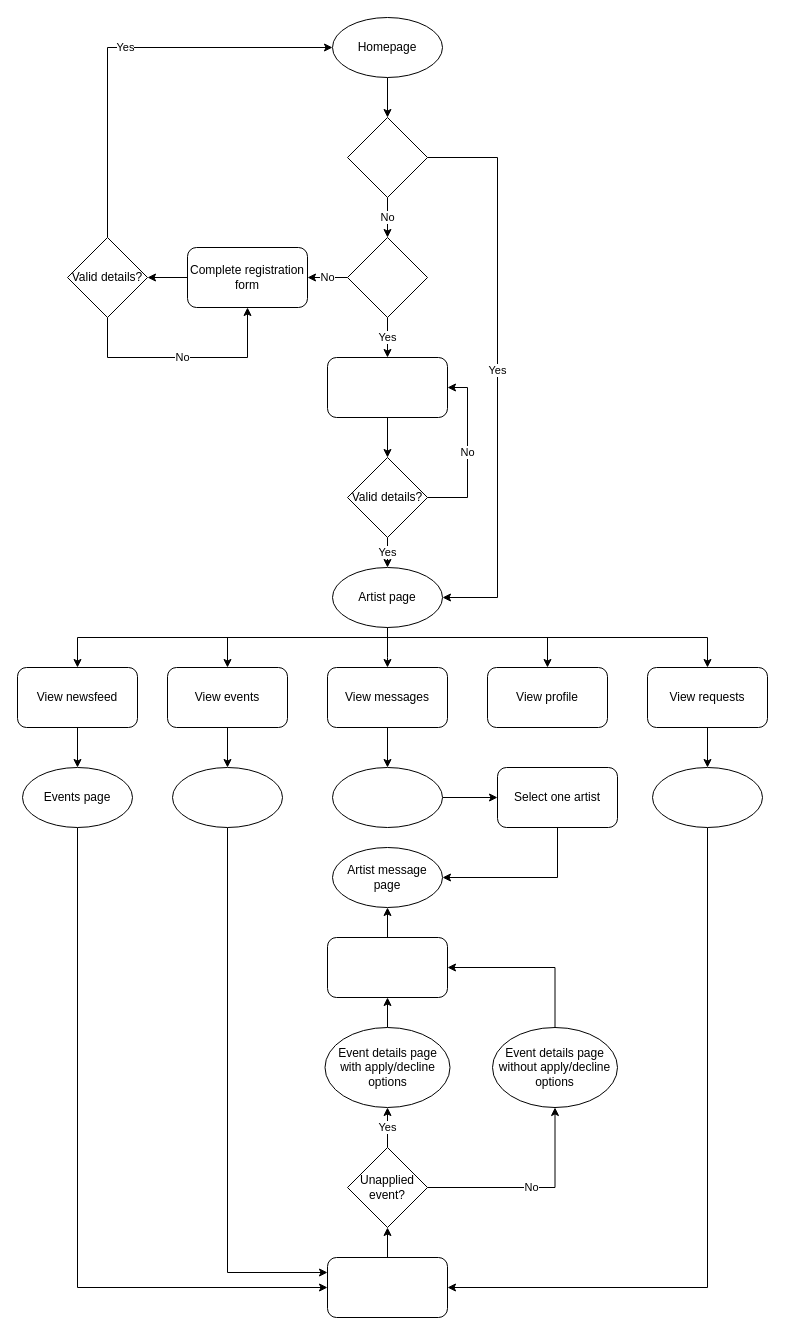
Image size: 785x1335. Some labels were removed from this diagram. Each missing label, with the centre of its shape:
"Complete login form" goes at (387,387).
"Contact organizer" goes at (387,967).
"List of events" goes at (707,797).
"Logged in?" goes at (387,157).
"Messages page" goes at (387,797).
"Registered?" goes at (387,277).
"Select one event from the list" goes at (387,1287).
"Upcoming and past events page" goes at (227,797).
